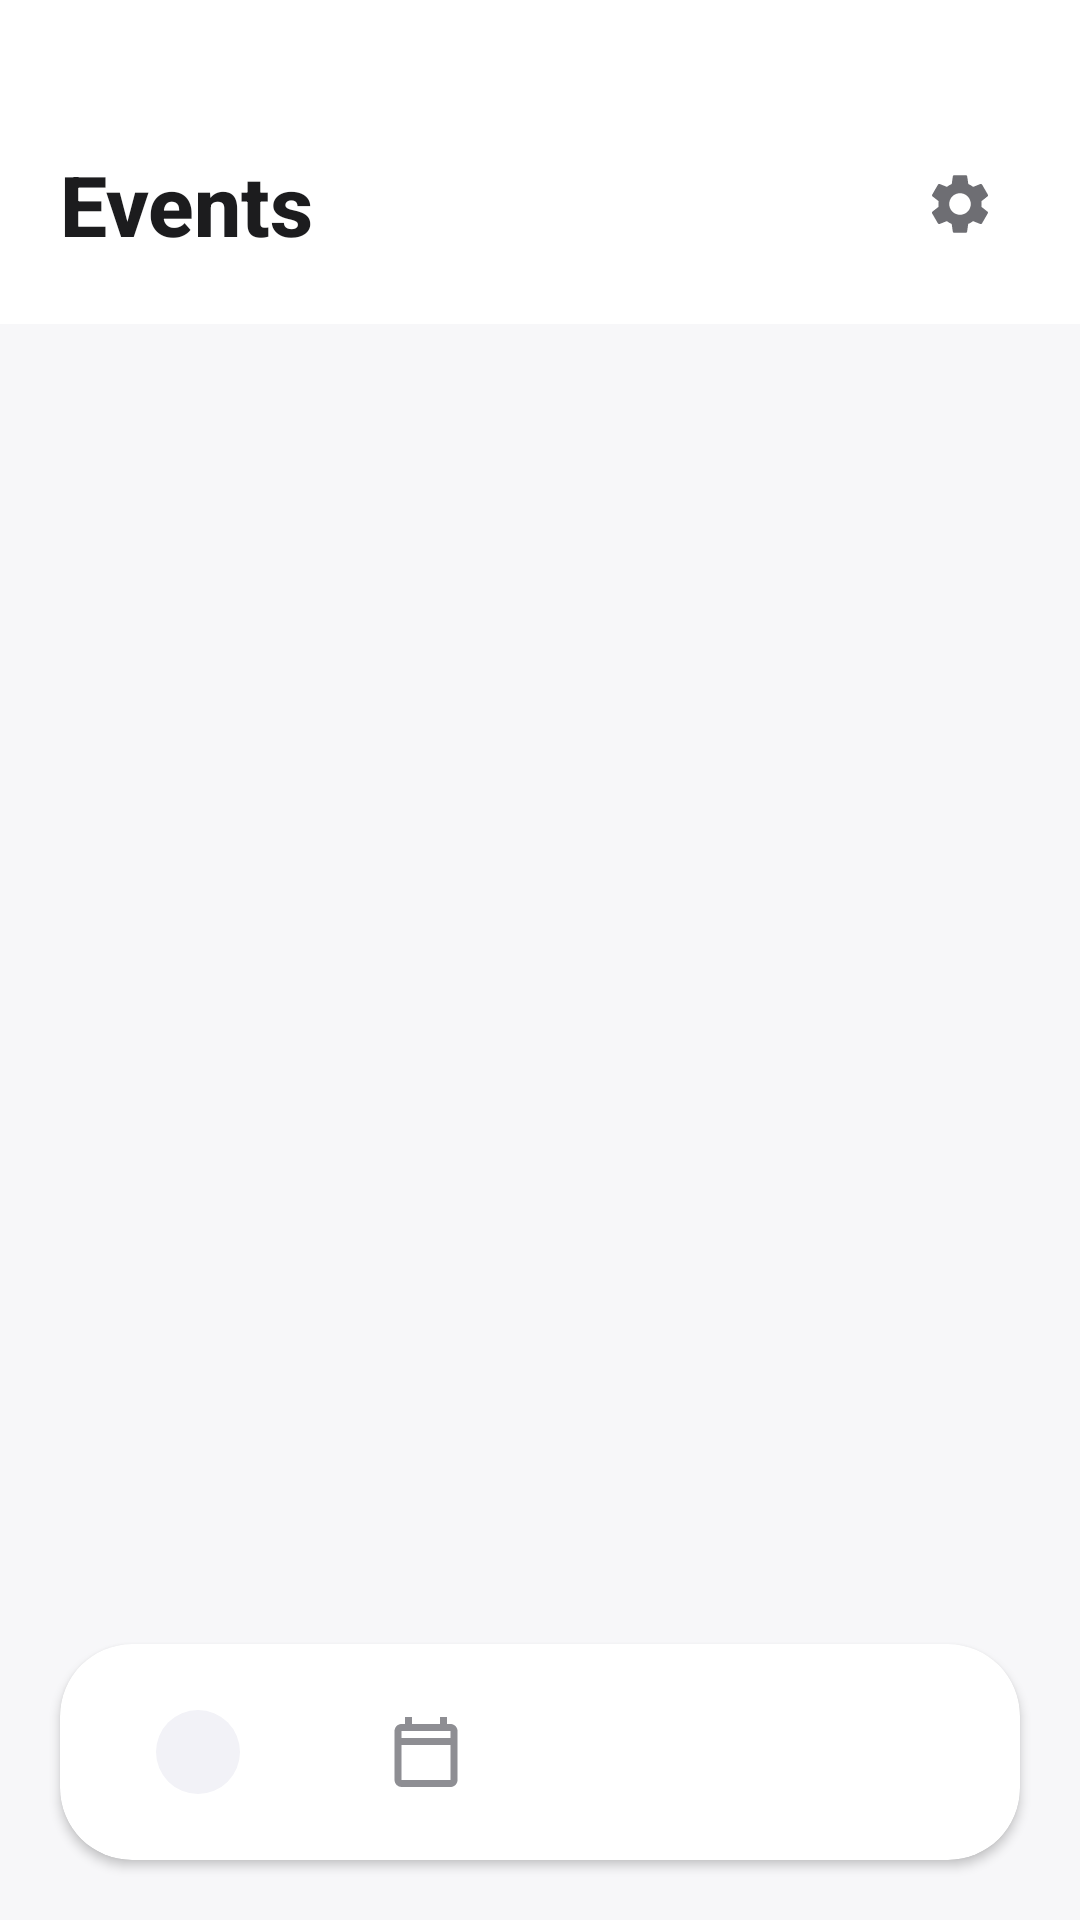

Icons on this 1080px x 1920px Android screen, each with its box as (x1, y1, x2, y2):
settings: (932, 175, 988, 233)
